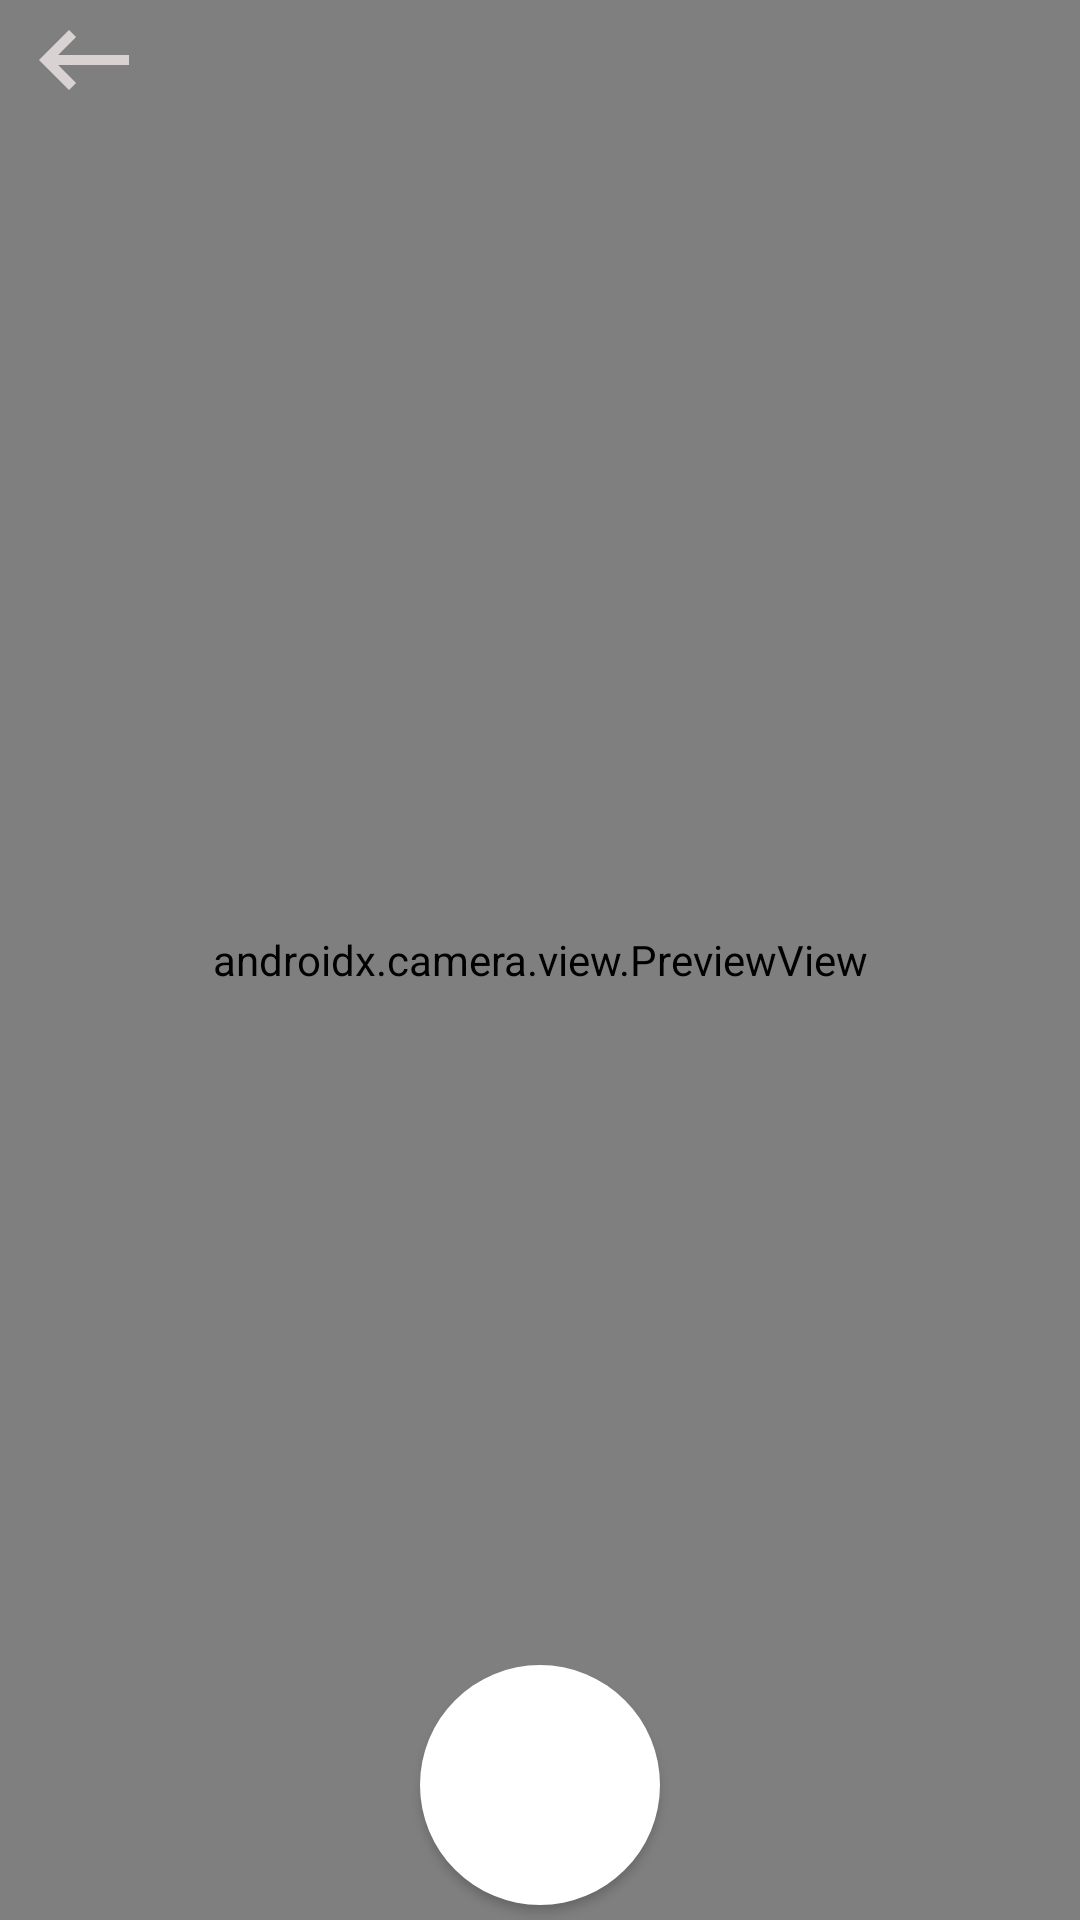

Screen size 1080×1920. Icon name, then its center in pixels as (x=x, y=y):
keyboard backspace: (x=84, y=60)
